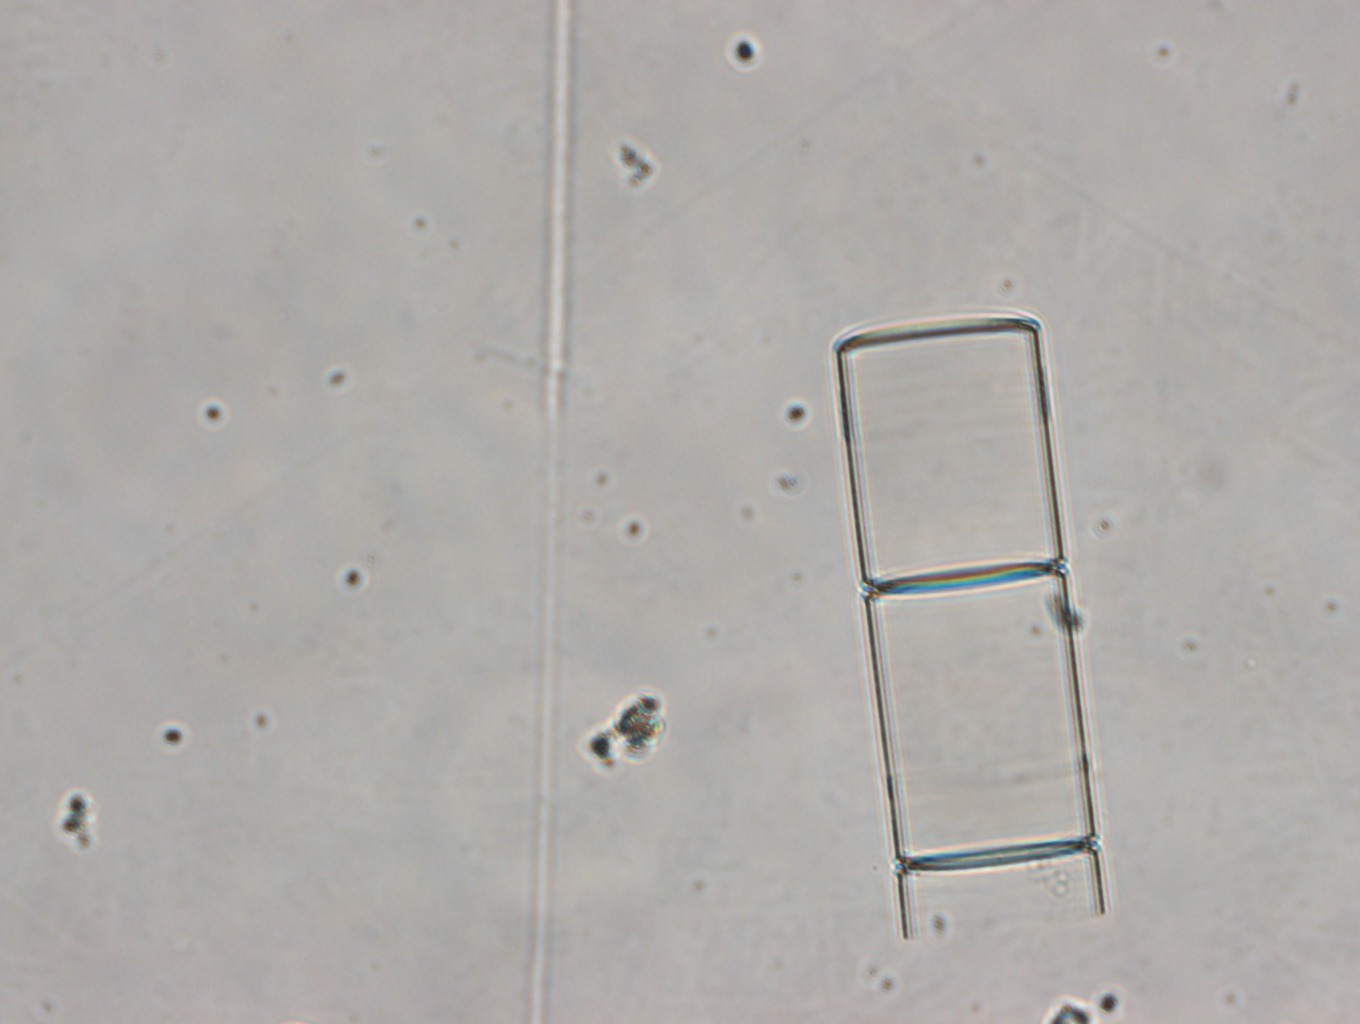guinardia flaccida: (838, 317, 1107, 939)
